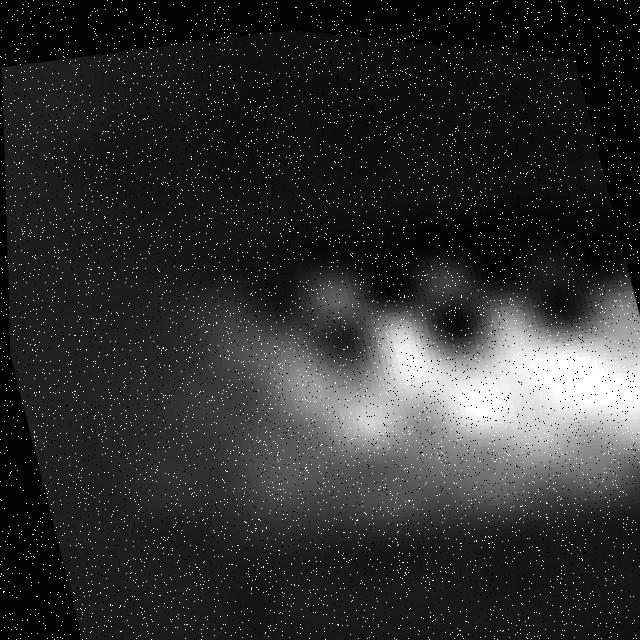person: (142, 191, 640, 594)
